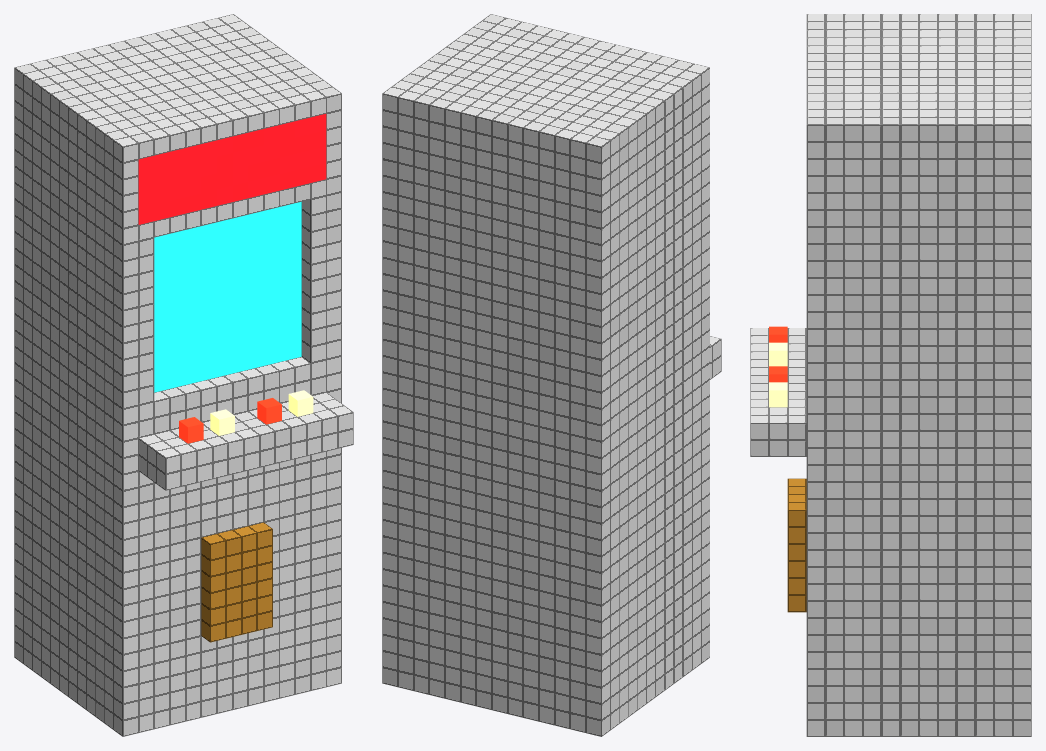
File: arcade_cabinet.glb
The picture shows the model from 3 angles, left to right: view 1: azimuth 30°, elevation 25°; view 2: azimuth 150°, elevation 25°; view 3: azimuth 270°, elevation 25°; orthographic projection. The views are drawn at different scales.
Parts seen in each view (by area): view 1: arcade_cabinet; view 2: arcade_cabinet; view 3: arcade_cabinet.
Part boxes in pixels (left/top/right/bottom): arcade_cabinet: left=14, top=14, right=353, bottom=736; arcade_cabinet: left=382, top=14, right=721, bottom=736; arcade_cabinet: left=750, top=14, right=1031, bottom=736.
Bounding box in the file's own units: 0.7 × 1.8 × 0.75.
7 materials, 3 textured.
